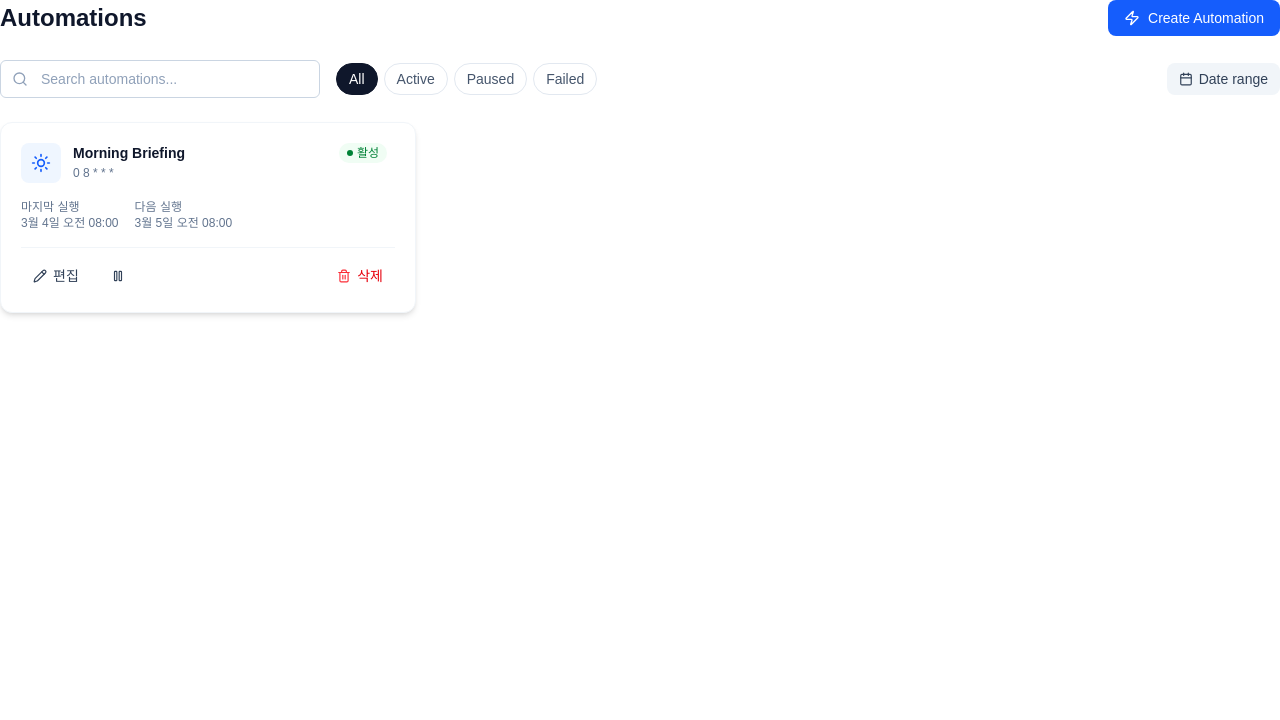
Automation Delete — TC-3015, TC-3016, TC-3017 › TC-3017: after confirming delete, automation is removed from the list
Click the button with aria-label "morning briefing 삭제" at (360, 276), box [325,260,395,292]
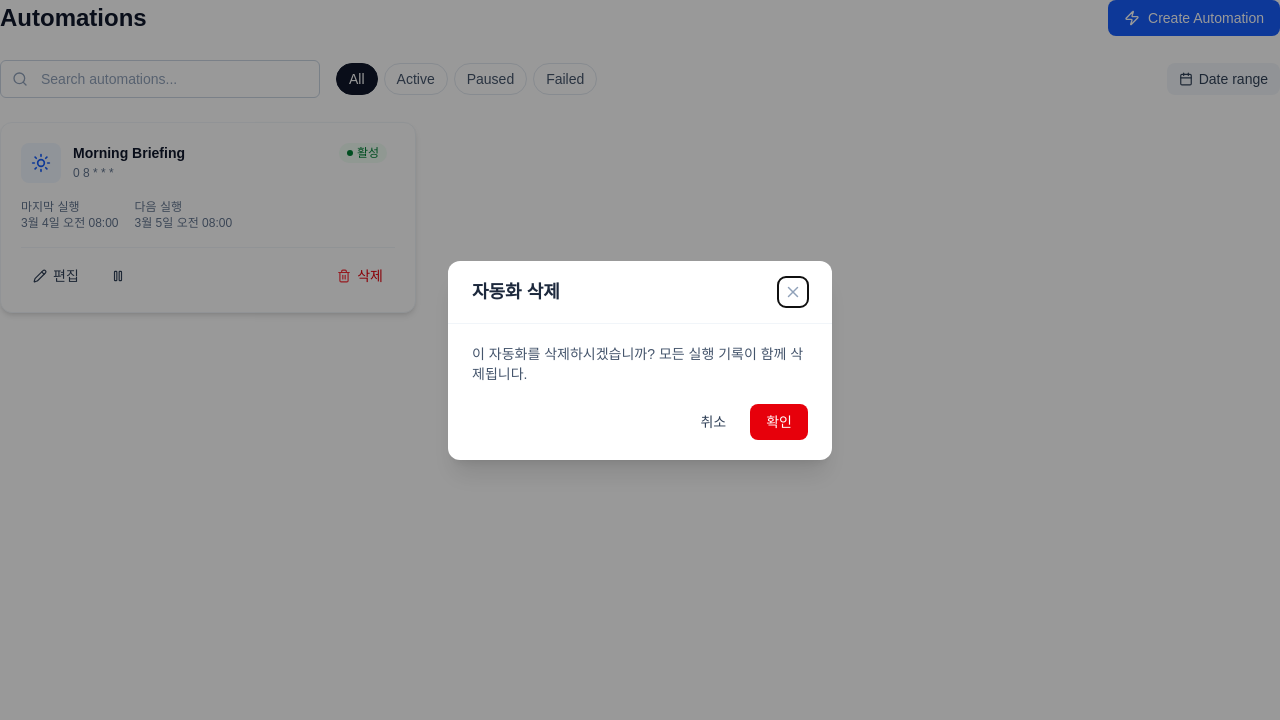
Result: the dialog is shown at [448,260,832,460]
Click the button "확인" at (779, 422), box [750,404,808,440]
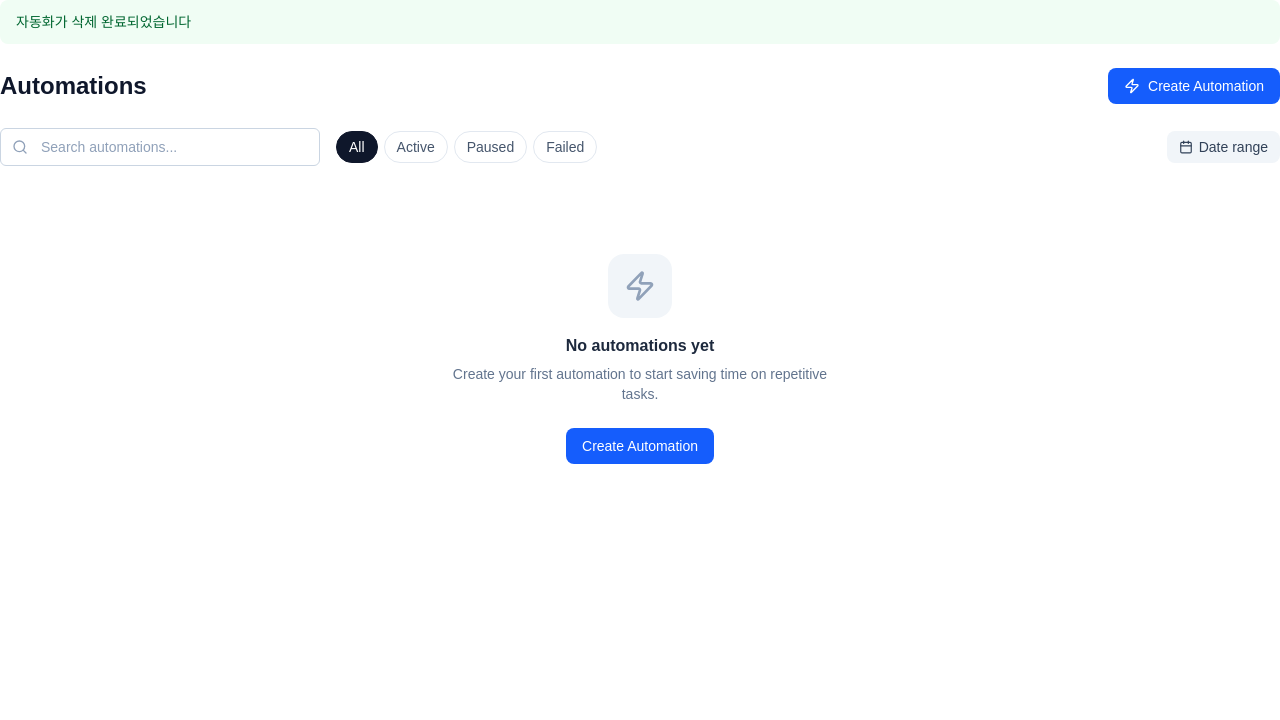
Result: the button "Morning Briefing" is gone
